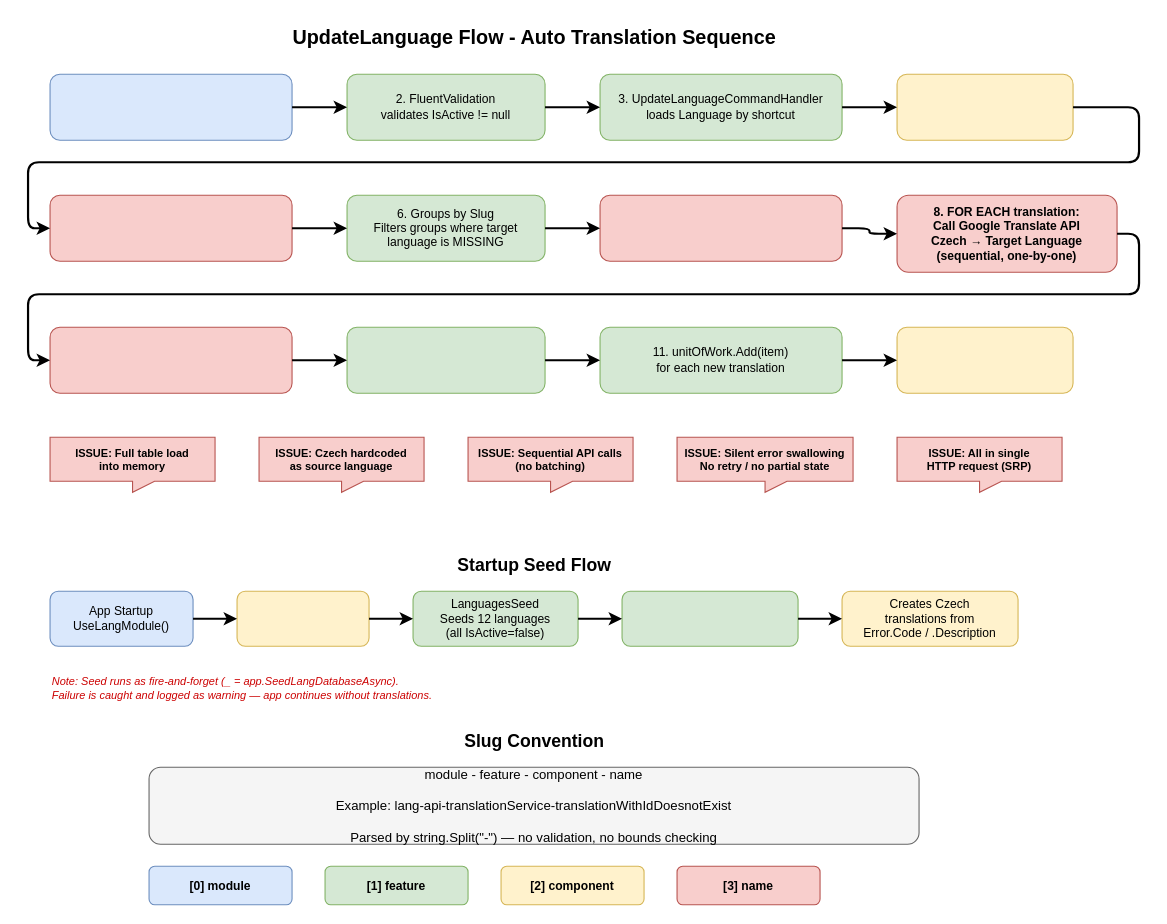
Some shapes in this 1167 by 924 pixel diagram are drawn without their labels. Each missing label, with the centre of its shape:
"1. Client sends PUT /api/lang/languages/{shortcut} { isActive: true }" goes at (x=170, y=106).
"10. Create new Translation entity for target language with translated value" goes at (x=445, y=359).
"12. SaveChangesAsync() Return Updated" goes at (x=984, y=359).
"4. Sets language.IsActive and saves to DB" goes at (x=984, y=106).
"5. Loads ALL translations from database (no filtering, full table)" goes at (x=170, y=227).
"7. From filtered groups selects only CZECH (Cs) translations as source" goes at (x=720, y=227).
"9. If Google API fails: swallow exception, use original Czech value as fallback" goes at (x=170, y=359).
"EF Core MigrateAsync()" goes at (x=302, y=618).
"TranslationsSeed Reflects IErrorComponent SlugProvider classes" goes at (x=709, y=618).
